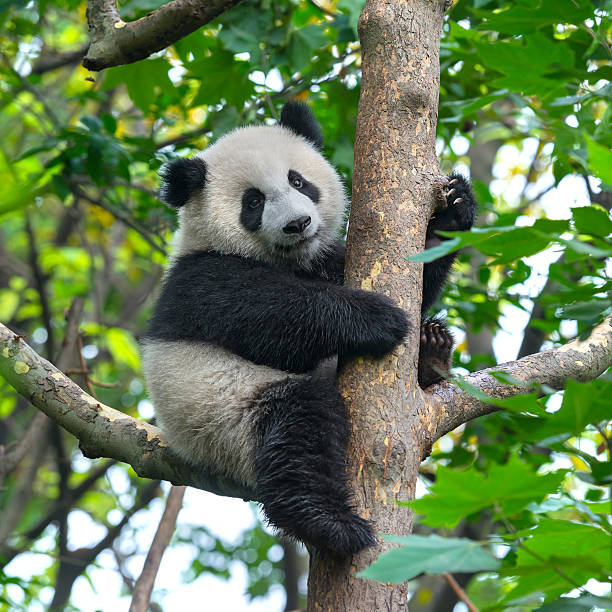panda: (129, 94, 378, 288)
